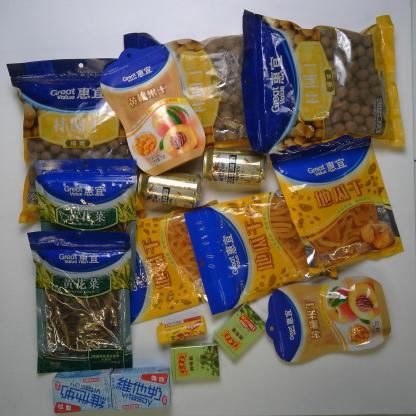Alcohol: (202, 146, 268, 188), (137, 170, 203, 210)
Candy: (211, 301, 266, 360), (169, 340, 222, 382), (155, 314, 208, 347)
Dried Food: (240, 8, 408, 156), (5, 56, 148, 224), (26, 230, 134, 374), (32, 157, 138, 298), (162, 33, 250, 149)
Dried Fruit: (183, 187, 339, 317), (268, 134, 406, 278), (99, 44, 207, 178), (264, 275, 392, 364), (130, 198, 219, 325)
Milk: (110, 364, 174, 412), (51, 367, 113, 415)
